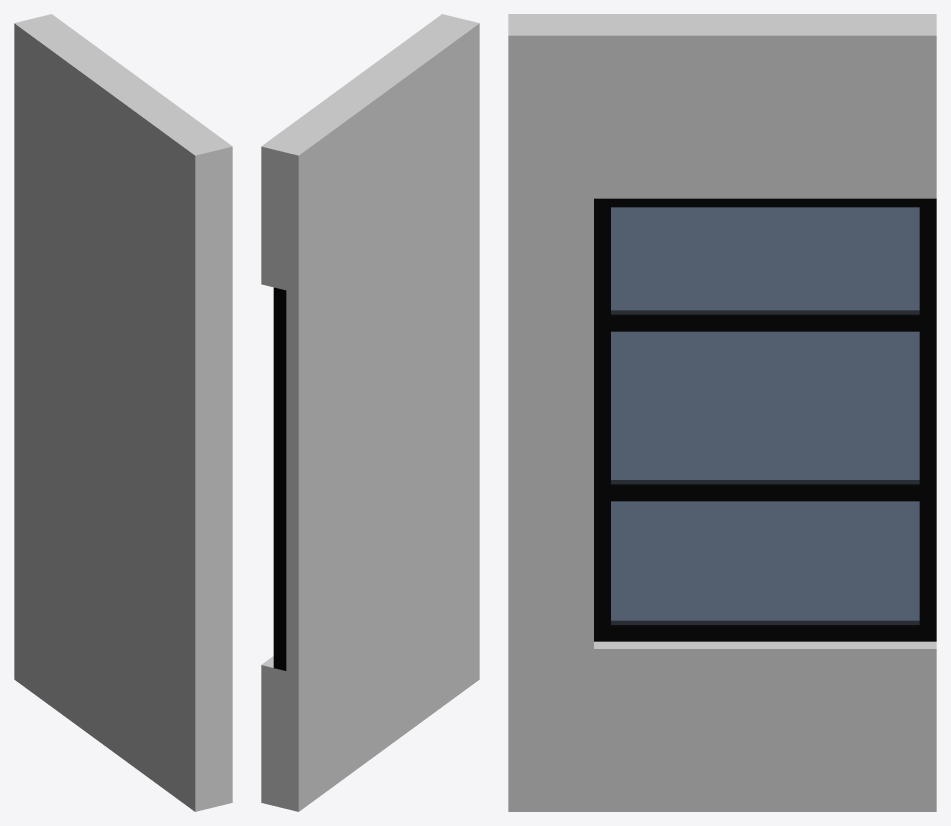
File: house_wallwindow2.glb
The picture shows the model from 3 angles, left to right: view 1: azimuth 30°, elevation 25°; view 2: azimuth 150°, elevation 25°; view 3: azimuth 270°, elevation 25°; orthographic projection. The views are drawn at different scales.
Visible parts, largest first — view 1: WallWindow2; view 2: WallWindow2; view 3: WallWindow2.
Part boxes in pixels (x1,y1,x2,y2): WallWindow2: [14, 14, 232, 811]; WallWindow2: [261, 14, 479, 811]; WallWindow2: [508, 14, 936, 811].
Size of the model in its own units: 30 by 500 by 250.
